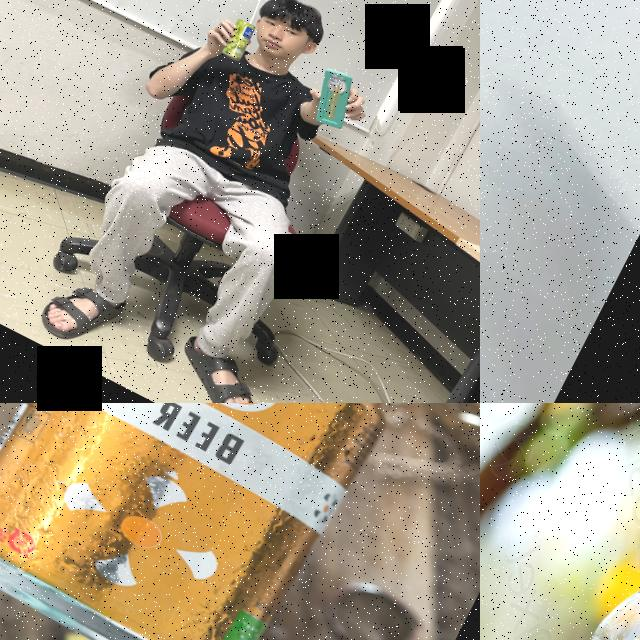bottle: (480, 0, 581, 401), (480, 544, 640, 640)
can: (0, 403, 421, 640), (217, 15, 260, 66)
